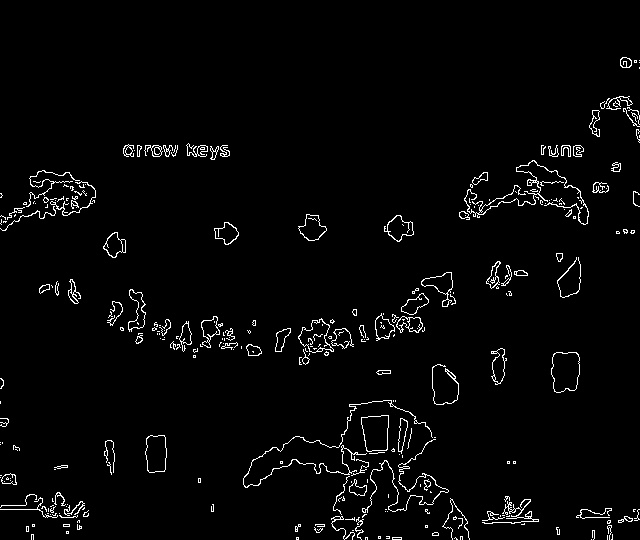down: (290, 209, 333, 255)
left: (378, 207, 421, 251), (93, 228, 135, 267)
right: (205, 213, 248, 254)
